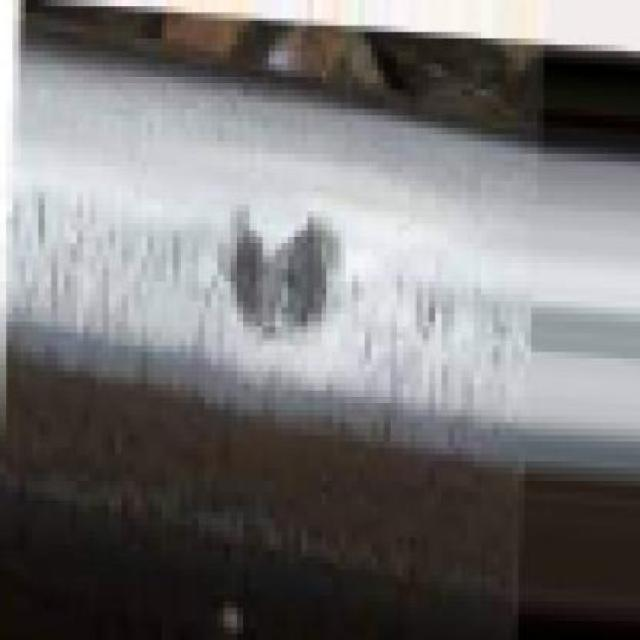defective: (6, 165, 617, 568)
